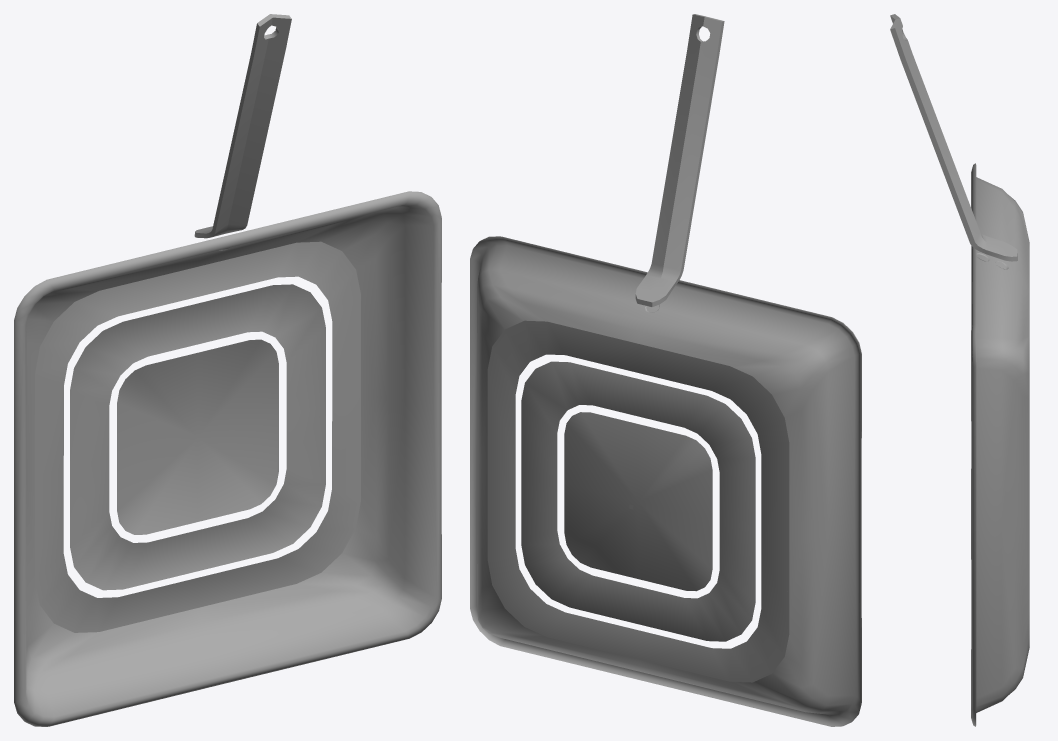
The model's file is MeshPan_1_0_GeomSubset_0.obj.
The picture shows the model from 3 angles, left to right: view 1: azimuth 30°, elevation 25°; view 2: azimuth 150°, elevation 25°; view 3: azimuth 270°, elevation 25°; orthographic projection. The views are drawn at different scales.
Parts seen in each view (by area): view 1: MeshPan_1_0_GeomSubset_0; view 2: MeshPan_1_0_GeomSubset_0; view 3: MeshPan_1_0_GeomSubset_0.
Part boxes in pixels (bbox=[...]): MeshPan_1_0_GeomSubset_0: bbox=[14, 14, 441, 726]; MeshPan_1_0_GeomSubset_0: bbox=[470, 14, 861, 726]; MeshPan_1_0_GeomSubset_0: bbox=[890, 14, 1029, 726].
Size of the model in its own units: 0.2839 by 0.4442 by 0.0988.
